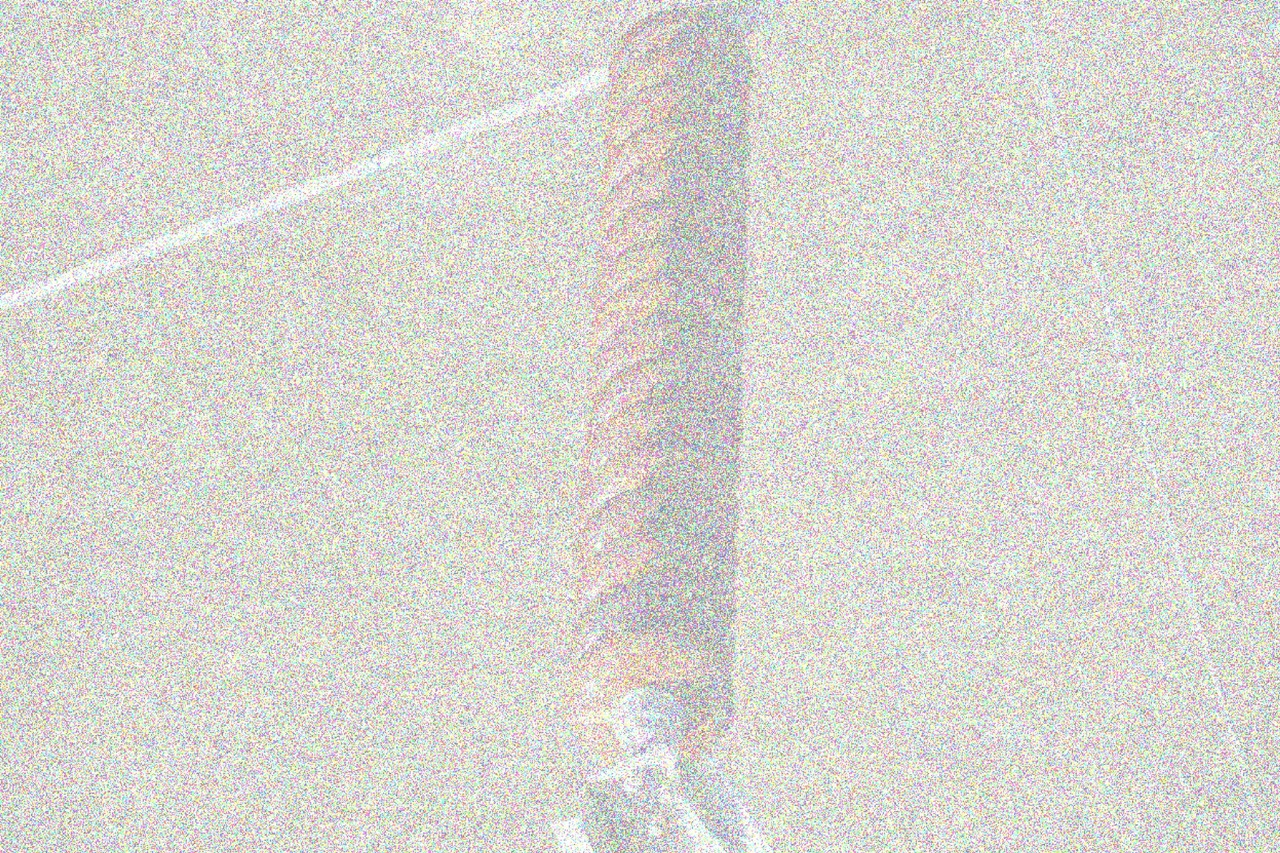Flashover damage: (561, 624, 735, 764), (572, 440, 742, 527), (583, 273, 753, 360), (569, 533, 738, 620), (585, 196, 754, 283), (602, 44, 756, 129)
No issues: (578, 358, 748, 451), (596, 114, 752, 209)
String: (543, 0, 774, 770)
